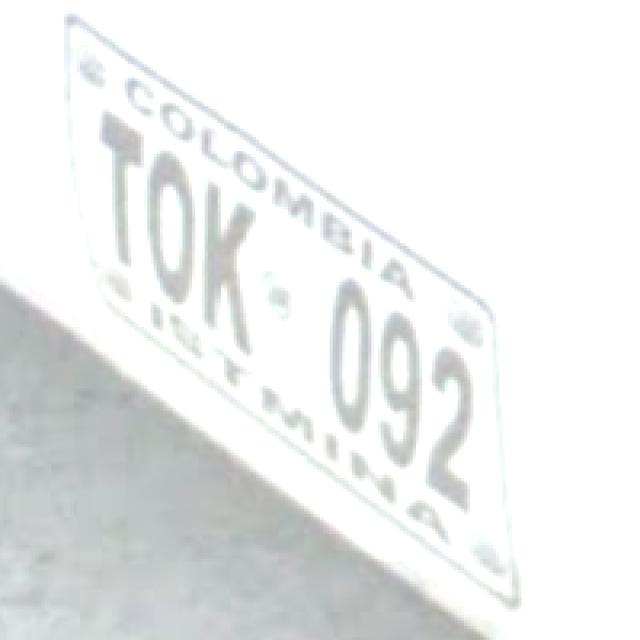placa: (56, 7, 530, 619)
